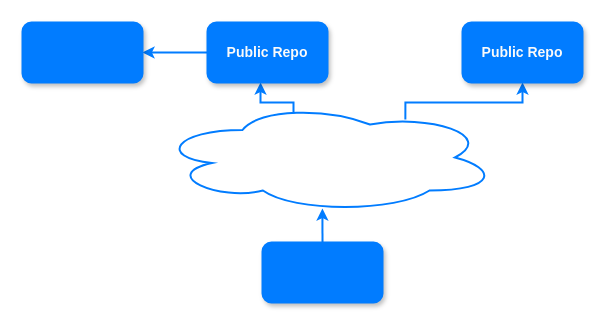
Image size: 606x327. Some labels were removed from this diagram. The centre of each missing label's shape, as x and y in pixels:
Builder: (323,273)
S3: (83,53)
